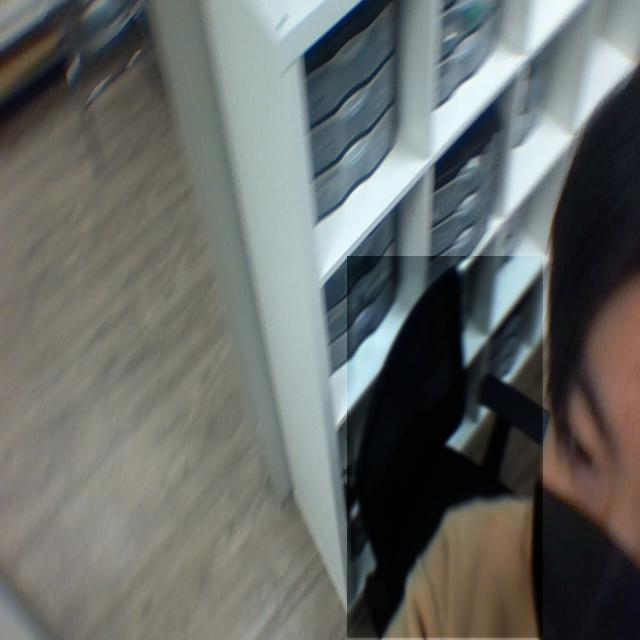black-chair: (347, 256, 544, 639)
